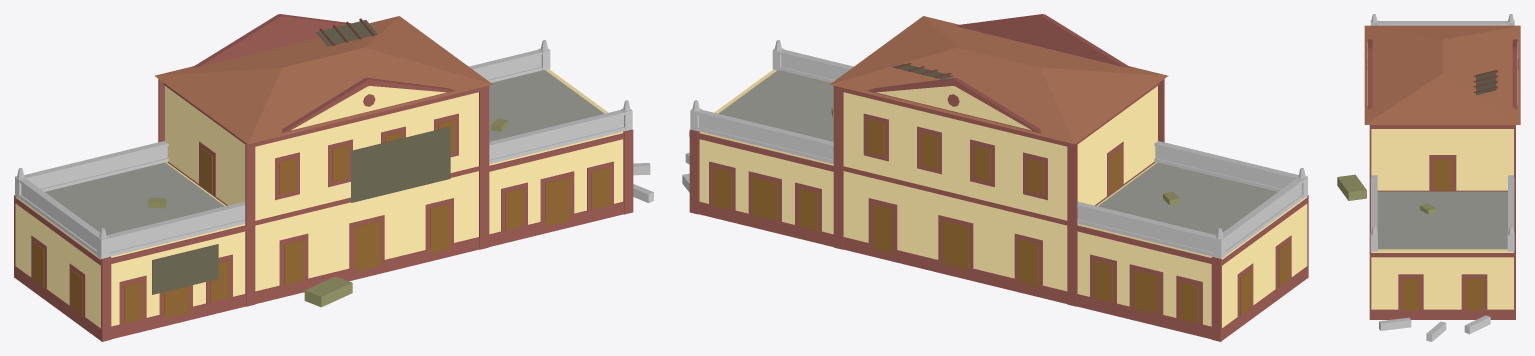
File: SM_EdificioViajerosSagunto_v3_Caida_LOD1.fbx
3 renders of one model, left to right at view 1: azimuth 30°, elevation 25°; view 2: azimuth 150°, elevation 25°; view 3: azimuth 270°, elevation 25°, orthographic. The views are drawn at different scales.
Visible parts, largest first — view 1: SM_edificio_viajeros_sagunto_v3_LOD1; view 2: SM_edificio_viajeros_sagunto_v3_LOD1; view 3: SM_edificio_viajeros_sagunto_v3_LOD1.
Boxes of the visible parts, x1,y1,x2,y2 form: SM_edificio_viajeros_sagunto_v3_LOD1: (14, 14, 653, 341); SM_edificio_viajeros_sagunto_v3_LOD1: (682, 14, 1308, 341); SM_edificio_viajeros_sagunto_v3_LOD1: (1337, 14, 1520, 341).
Bounding box in the file's own units: 35.35 × 11.4 × 11.53.
